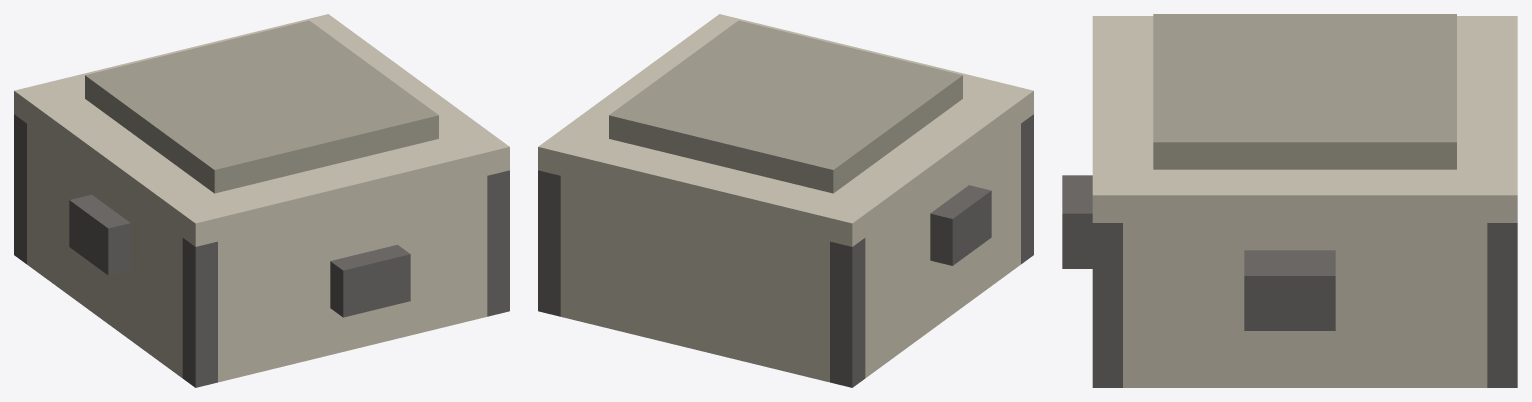
File: cajon_semillas_abedul_01.glb
3 renders of one model, left to right at view 1: azimuth 30°, elevation 25°; view 2: azimuth 150°, elevation 25°; view 3: azimuth 270°, elevation 25°, orthographic. The views are drawn at different scales.
Parts seen in each view (by area): view 1: cajon_semillas_abedul; view 2: cajon_semillas_abedul; view 3: cajon_semillas_abedul.
Boxes of the visible parts, <box> form: cajon_semillas_abedul: <box>14,14,509,387</box>; cajon_semillas_abedul: <box>538,14,1033,387</box>; cajon_semillas_abedul: <box>1062,14,1517,387</box>.
Bounding box in the file's own units: 1.21 × 0.5714 × 1.07.
